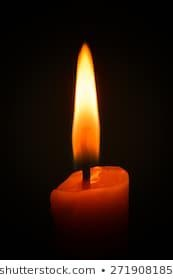fire: (71, 37, 100, 163)
